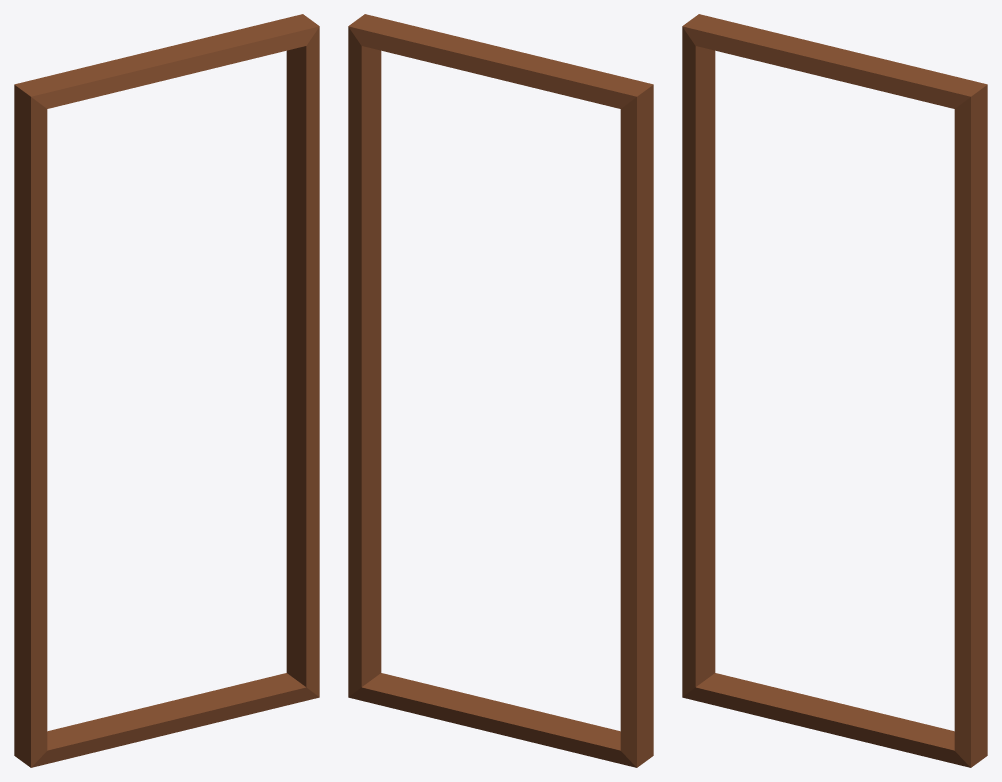
The model's file is door_frame.glb.
3 renders of one model, left to right at view 1: azimuth 30°, elevation 25°; view 2: azimuth 150°, elevation 25°; view 3: azimuth 330°, elevation 25°, orthographic.
Parts seen in each view (by area): view 1: Door A.001; view 2: Door A.001; view 3: Door A.001.
Boxes of the visible parts, bbox=[...] form: Door A.001: bbox=[14, 14, 319, 767]; Door A.001: bbox=[348, 14, 653, 767]; Door A.001: bbox=[682, 14, 987, 767].
Bounding box in the file's own units: 0.924 × 2.05 × 0.1099.
